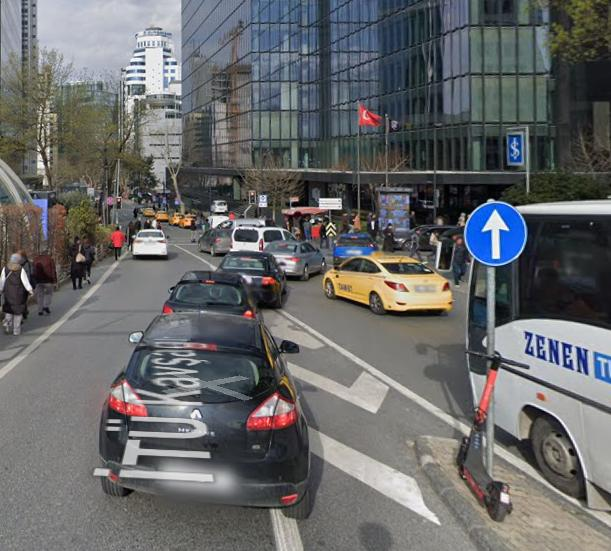forward: (463, 201, 532, 266)
